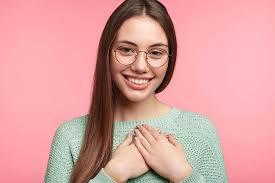Awake: (88, 0, 189, 113)
